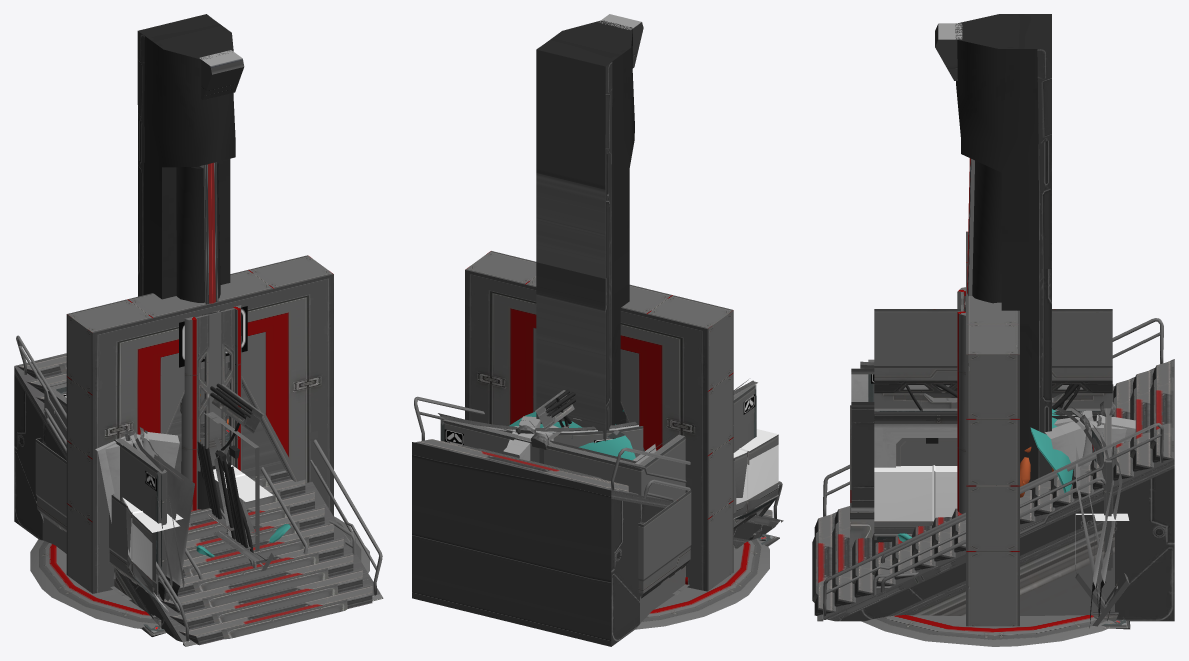
Rendered from scifi.glb.
3 views of the same model, side by side, from view 1: azimuth 30°, elevation 25°; view 2: azimuth 150°, elevation 25°; view 3: azimuth 270°, elevation 25° (orthographic). The views are drawn at different scales.
Parts seen in each view (by area): view 1: Door_Frame_A, Platform_Stairs_4WideTall, Column_Large_Straight, Column_Hollow, Platform_Round1, TopCables_Corner_Square_Outer, WallAstra_Straight_Broken, WallBand_Corner_Square_Outer, Platform_Rails_4WideTall, Door_Frame_Square_Blocked, WallAstra_Corner_Round_Outer, TopWindow_Corner_Curve_Outer (+12 smaller); view 2: Platform_Stairs_4WideTall, Column_Large_Straight, Door_Frame_A, WallBand_Corner_Square_Outer, TopCables_Corner_Square_Outer, Platform_Round1, TopWindow_Corner_Curve_Outer, Platform_Rails_4WideTall, WallBand_Corner_Round_Outer, TopPlastic_Corner_Round_Outer, Platform_Ramp_4Wide, TopCables_Straight_Hanging (+6 smaller); view 3: Column_Large_Straight, Platform_Stairs_4WideTall, Door_Frame_A, TopCables_Straight_Hanging, Platform_Ramp_4Wide, Platform_Round1, TopWindow_Straight, Platform_Rails_4WideTall, WallBand_Straight_Broken, WallAstra_Straight_Flat_Window, Column_Hollow, WallBand_Straight (+10 smaller).
Part boxes in pixels (x1,y1,x2,y2): Door_Frame_A: [66, 255, 333, 593]; Platform_Stairs_4WideTall: [14, 353, 383, 646]; Column_Large_Straight: [137, 14, 244, 509]; Column_Hollow: [180, 305, 242, 510]; Platform_Round1: [30, 516, 369, 628]; TopCables_Corner_Square_Outer: [35, 438, 173, 605]; WallAstra_Straight_Broken: [197, 441, 253, 553]; WallBand_Corner_Square_Outer: [44, 390, 167, 599]; Platform_Rails_4WideTall: [16, 335, 382, 641]; Door_Frame_Square_Blocked: [168, 368, 284, 478]; WallAstra_Corner_Round_Outer: [113, 432, 181, 602]; TopWindow_Corner_Curve_Outer: [122, 497, 179, 613]; Platform_Stairs_4WideTall: [412, 439, 783, 646]; Column_Large_Straight: [536, 14, 643, 441]; Door_Frame_A: [465, 251, 733, 591]; WallBand_Corner_Square_Outer: [443, 386, 754, 501]; TopCables_Corner_Square_Outer: [638, 457, 757, 598]; Platform_Round1: [635, 538, 769, 629]; TopWindow_Corner_Curve_Outer: [733, 429, 778, 519]; Platform_Rails_4WideTall: [414, 396, 782, 518]; WallBand_Corner_Round_Outer: [441, 394, 755, 457]; TopPlastic_Corner_Round_Outer: [734, 434, 778, 519]; Platform_Ramp_4Wide: [641, 537, 750, 621]; TopCables_Straight_Hanging: [535, 389, 581, 430]; Column_Large_Straight: [935, 14, 1051, 489]; Platform_Stairs_4WideTall: [812, 359, 1174, 621]; Door_Frame_A: [966, 231, 1019, 626]; TopCables_Straight_Hanging: [874, 309, 1112, 411]; Platform_Ramp_4Wide: [886, 526, 1112, 616]; Platform_Round1: [861, 615, 1115, 646]; TopWindow_Straight: [874, 465, 957, 539]; Platform_Rails_4WideTall: [823, 318, 1163, 619]; WallBand_Straight_Broken: [850, 402, 874, 547]; WallAstra_Straight_Flat_Window: [874, 416, 1112, 545]; Column_Hollow: [957, 287, 965, 513]; WallBand_Straight: [874, 412, 1100, 465].
Bounding box in the file's own units: 5.99 × 10 × 6.08.
18 materials, 8 textured.
